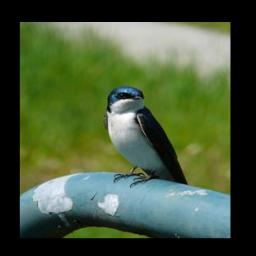Swallow: (101, 84, 189, 188)
